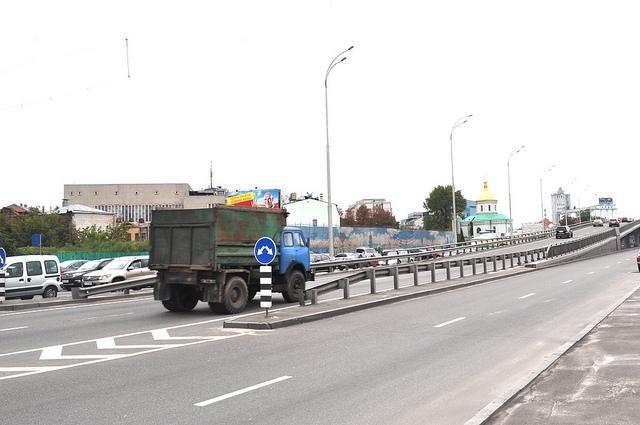car: (5, 253, 64, 301), (82, 255, 157, 288), (62, 258, 110, 290), (60, 260, 90, 284), (338, 253, 372, 272), (414, 250, 444, 261), (310, 254, 334, 264), (355, 247, 381, 256), (555, 226, 574, 238), (333, 254, 348, 262), (606, 219, 622, 225), (408, 249, 424, 254), (622, 217, 629, 223)
truck: (148, 204, 314, 314)
